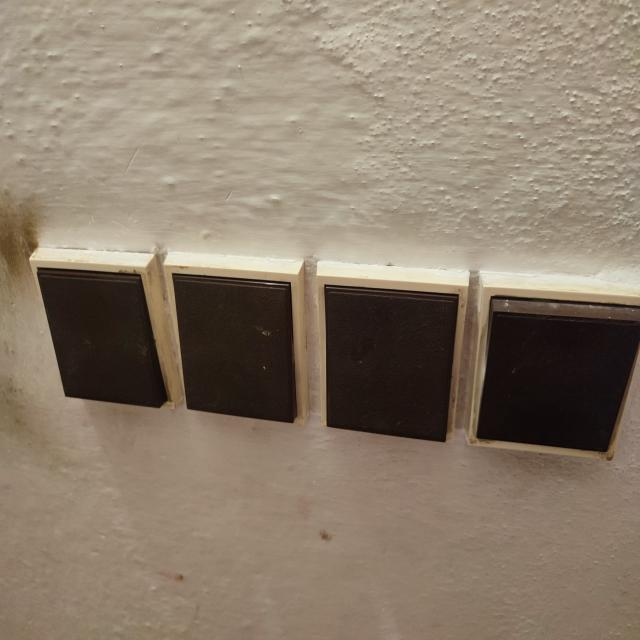house switch: (462, 273, 640, 461), (316, 261, 470, 441), (29, 246, 184, 409), (163, 252, 310, 423)
